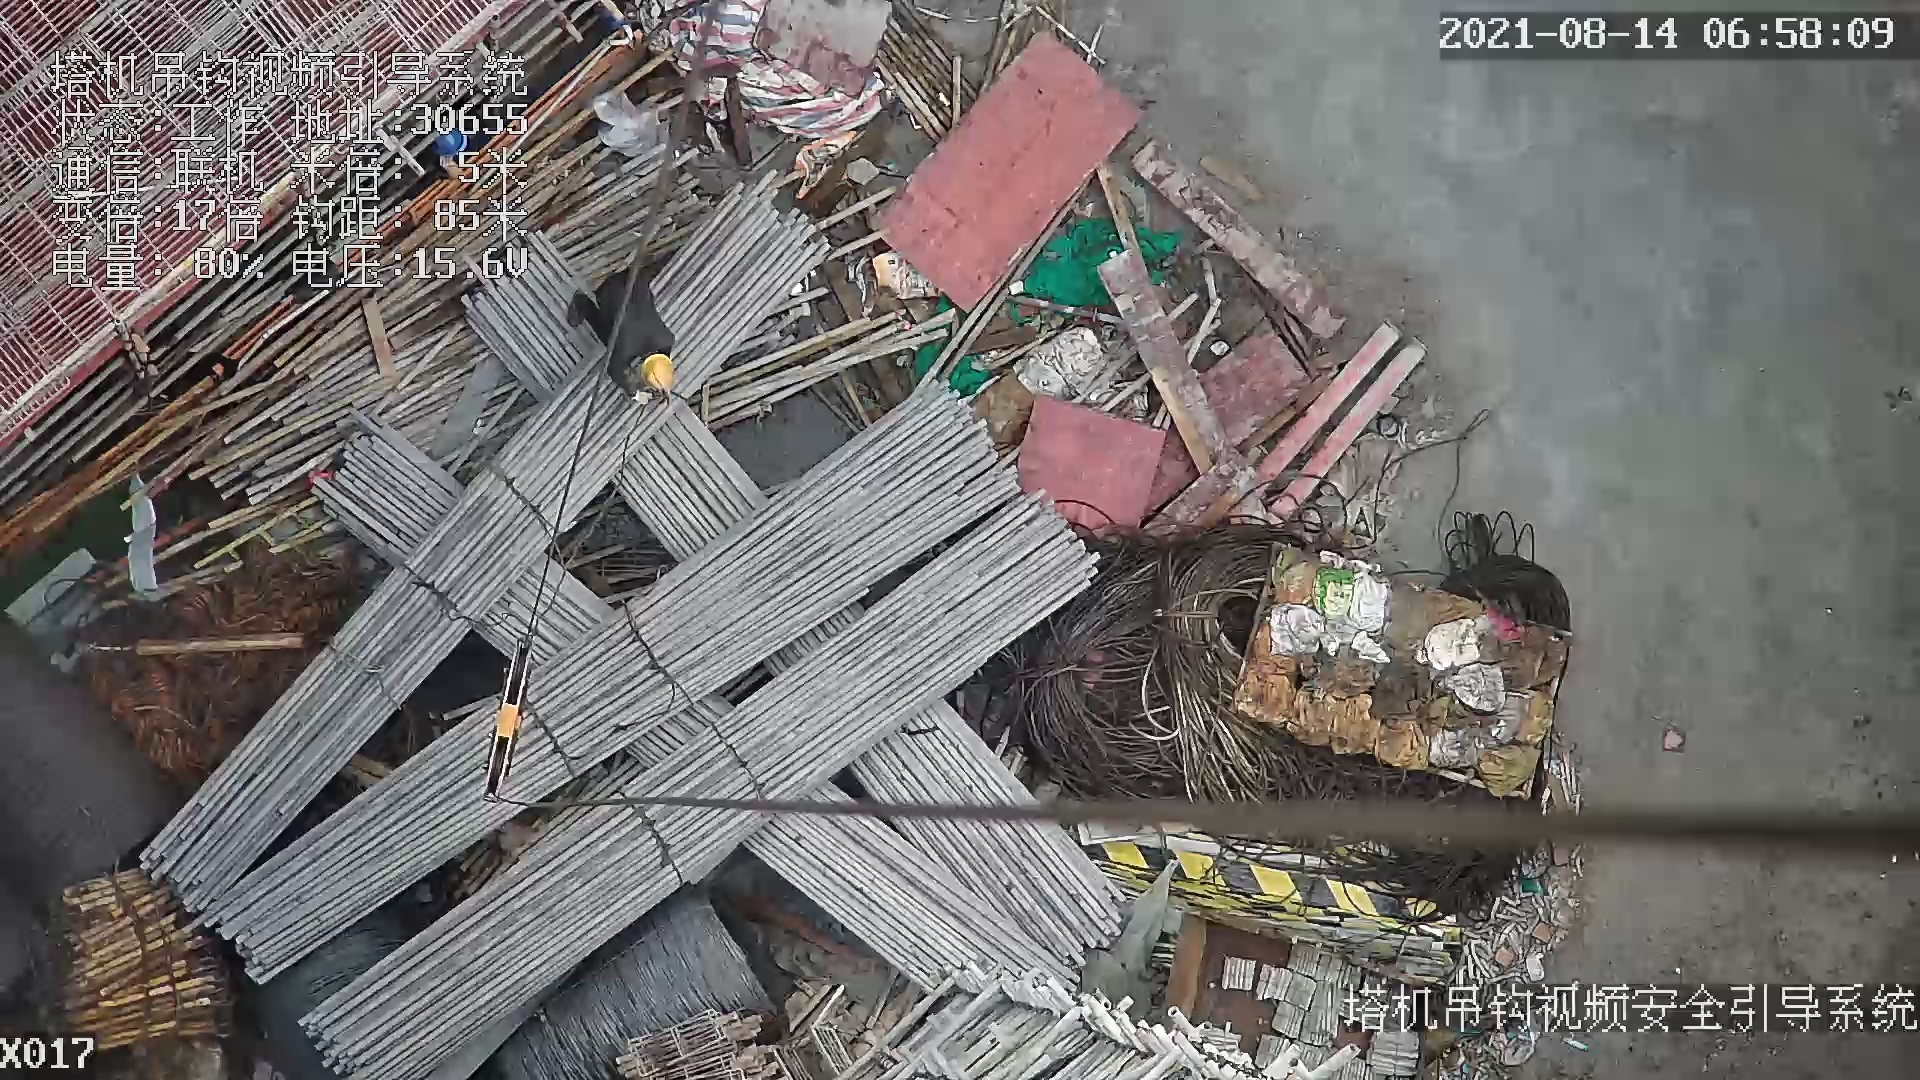helmet: (641, 354, 672, 391)
hook: (486, 628, 545, 804)
person: (568, 273, 673, 403)
rebar: (138, 180, 827, 910), (204, 383, 1020, 984), (303, 493, 1097, 1080), (743, 783, 1081, 997), (843, 704, 1124, 960)
scaffold: (61, 869, 232, 1050)
